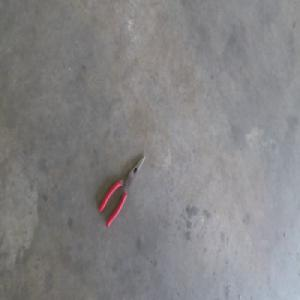Pliers: (98, 155, 144, 226)
